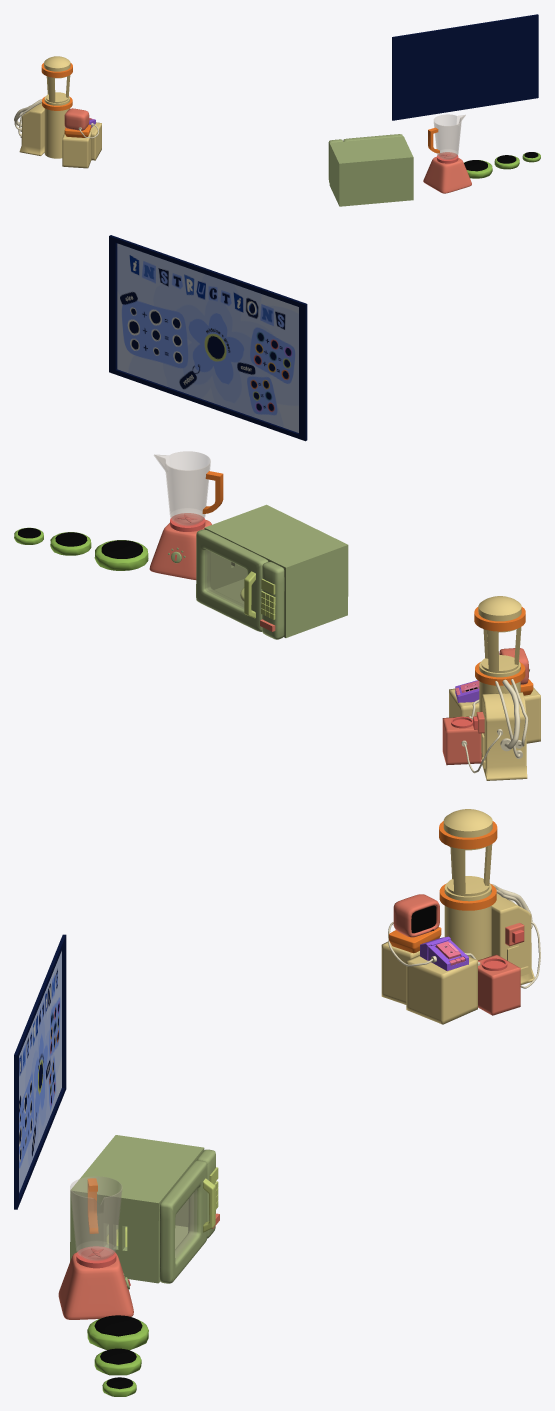
3 views of the same model, one above another, from view 1: azimuth 30°, elevation 25°; view 2: azimuth 150°, elevation 25°; view 3: azimuth 270°, elevation 25° (orthographic). The views are drawn at different scales.
Parts seen in each view (by area): view 1: Instructions, P2Microwave, P2Blender, Cube.161, P2CopyMachine, Cylinder, Cube.153, P2Monitor, Circle.101, Cube.160, Sphere.016, Circle.100; view 2: Instructions, P2Microwave, Door, Cube.161, Cylinder, P2Blender, Plane.125, Cube.155, Cube.035, Circle.101, Sphere.016, BigEyeball (+3 smaller); view 3: P2Microwave, Instructions, Cube.160, Door, Cylinder, P2Blender, P2CopyMachine, Cube.161, Cube.155, Cube.153, Circle.101, Sphere.016 (+9 smaller).
Part boxes in pixels (box(x1,y1,x2,y2)): Instructions: box(392, 14, 538, 120); P2Microwave: box(329, 136, 413, 206); P2Blender: box(423, 156, 471, 193); Cube.161: box(19, 103, 44, 155); P2CopyMachine: box(44, 96, 69, 158); Cylinder: box(434, 114, 465, 159); Cube.153: box(62, 131, 91, 168); P2Monitor: box(64, 108, 89, 130); Circle.101: box(46, 75, 70, 103); Cube.160: box(90, 122, 101, 160); Sphere.016: box(44, 56, 70, 71); Circle.100: box(41, 63, 72, 77); Instructions: box(109, 235, 307, 441); P2Microwave: box(204, 504, 348, 637); Door: box(196, 529, 268, 631); Cube.161: box(482, 692, 527, 780); Cylinder: box(154, 451, 210, 525); P2Blender: box(149, 520, 211, 579); Plane.125: box(205, 550, 246, 608); Cube.155: box(442, 716, 481, 765); Cube.035: box(262, 562, 284, 639); Circle.101: box(481, 627, 521, 672); Sphere.016: box(478, 596, 521, 621); BigEyeball: box(94, 540, 148, 570); P2Microwave: box(70, 1135, 204, 1283); Instructions: box(14, 934, 66, 1209); Cube.160: box(406, 955, 477, 1024); Door: box(159, 1160, 207, 1283); Cylinder: box(70, 1176, 122, 1260); P2Blender: box(58, 1252, 133, 1319); P2CopyMachine: box(444, 883, 491, 960); Cube.161: box(491, 894, 534, 984); Cube.155: box(478, 954, 520, 1015); Cube.153: box(381, 938, 439, 1004); Circle.101: box(447, 844, 492, 896); Sphere.016: box(443, 809, 492, 837).
Size of the model in its own units: 314 by 122 by 184.
